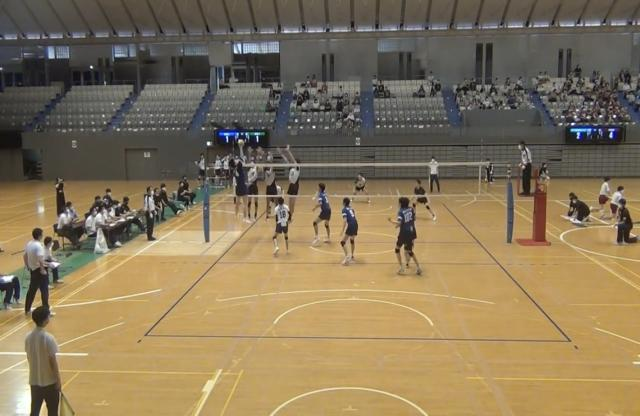spike: (224, 139, 254, 225)
